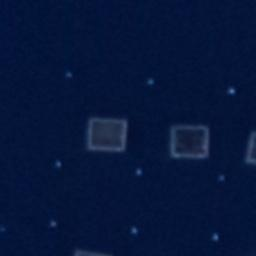square_cover: (166, 121, 210, 164), (83, 114, 131, 152)
